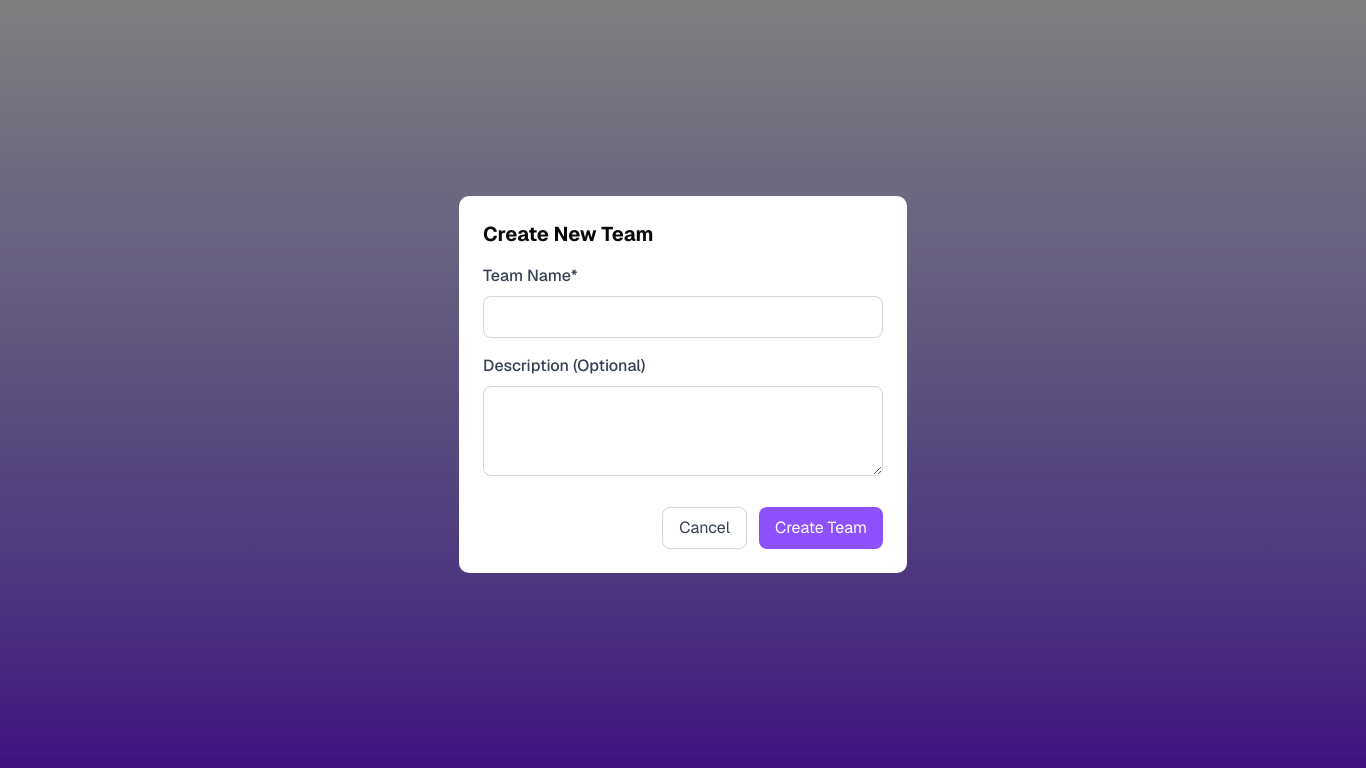
Test: CreateTeamModal › shows loading state when submitting
This screenshot has width=1366, height=768.
Fill the form
In the field labelled "Team Name*": (683, 316) [483, 296, 883, 338], type "Test Team"
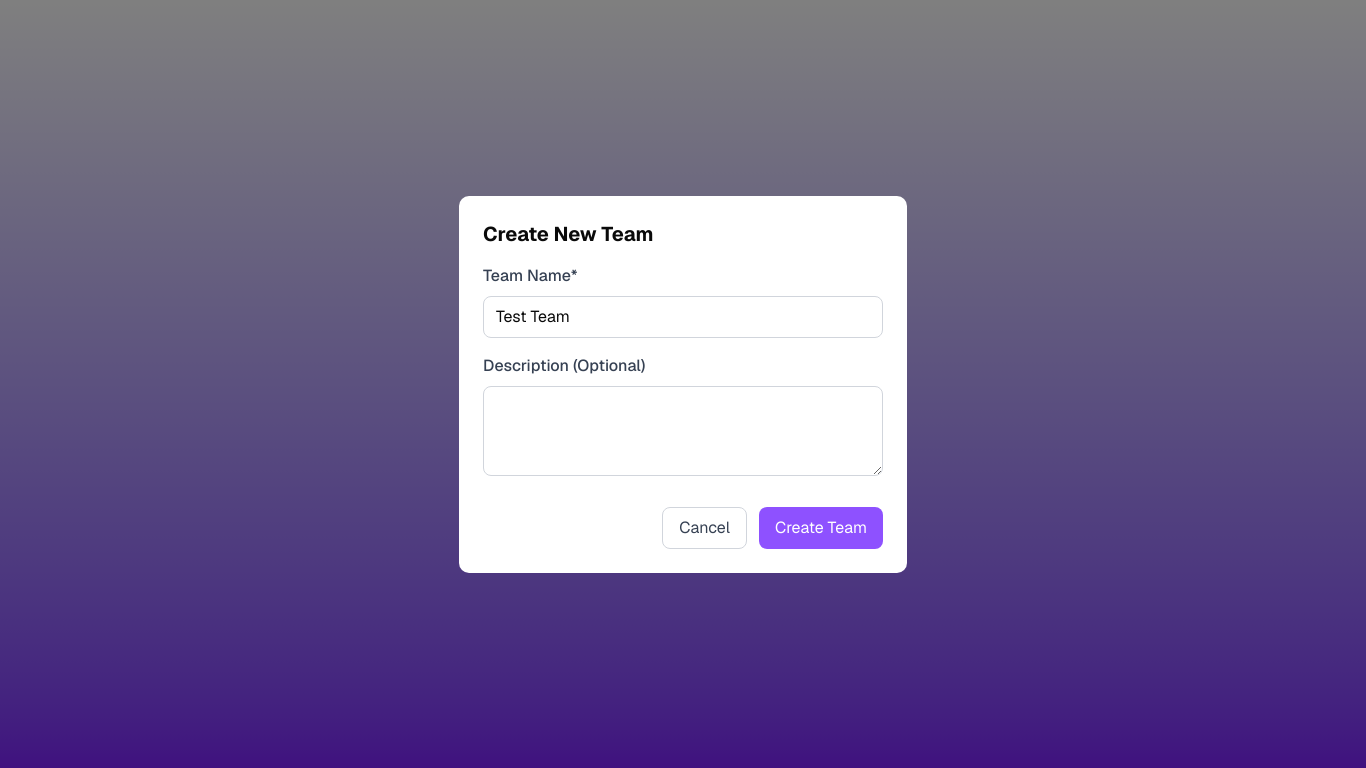
Submit the form
Click the button "Create Team": (821, 528) [759, 506, 883, 548]
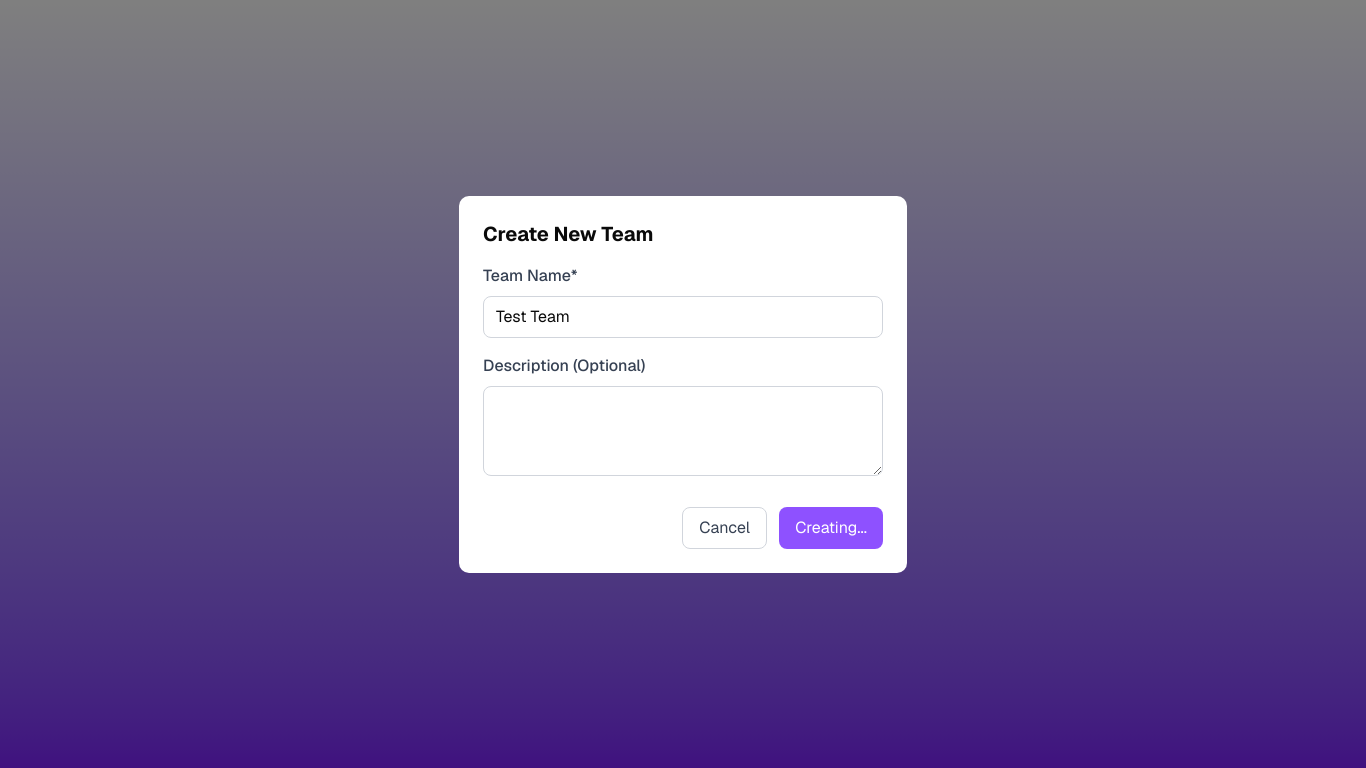
Expected: the button "Creating..." is shown, [779, 506, 883, 548]
